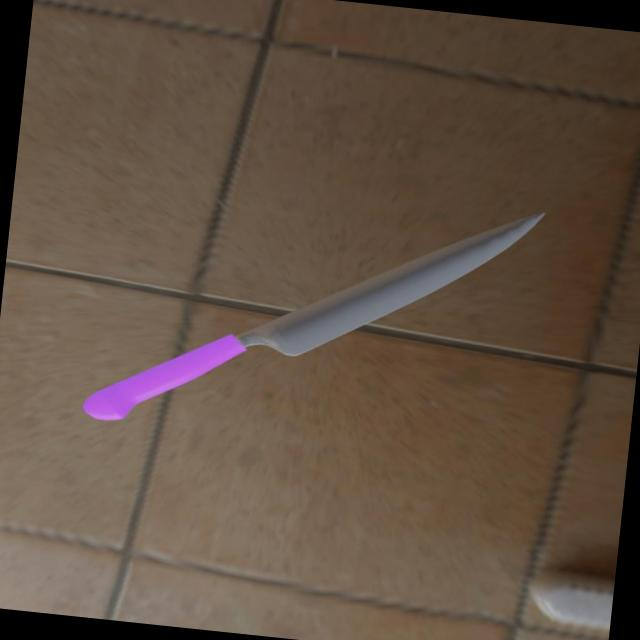knife: (78, 320, 246, 434)
